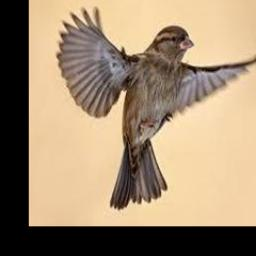Sparrow: (58, 7, 256, 210)
